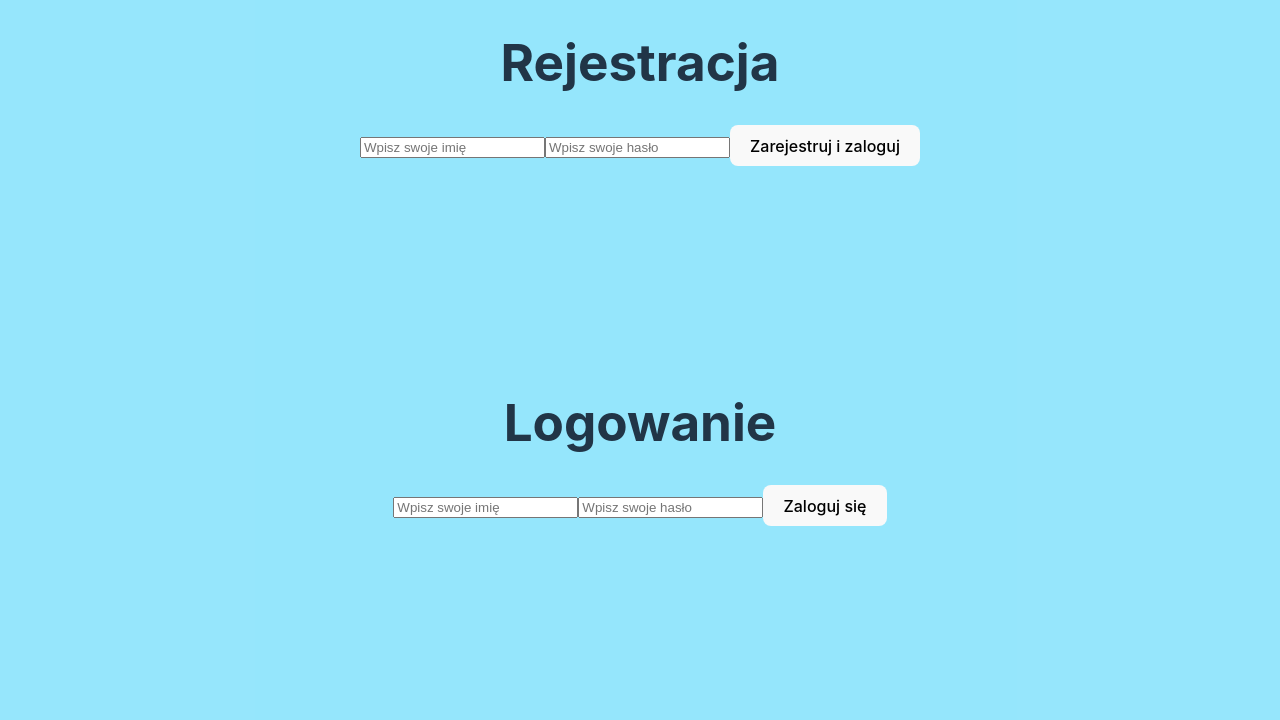
Scenario: example to-do app › shows error for existing user in registration
This screenshot has width=1280, height=720.
// Testuje formularz rejestracji
Type "Jacek" into the field with test id "register-username-input".
click(453, 148); type("Jacek")  # box [360,137,545,158]
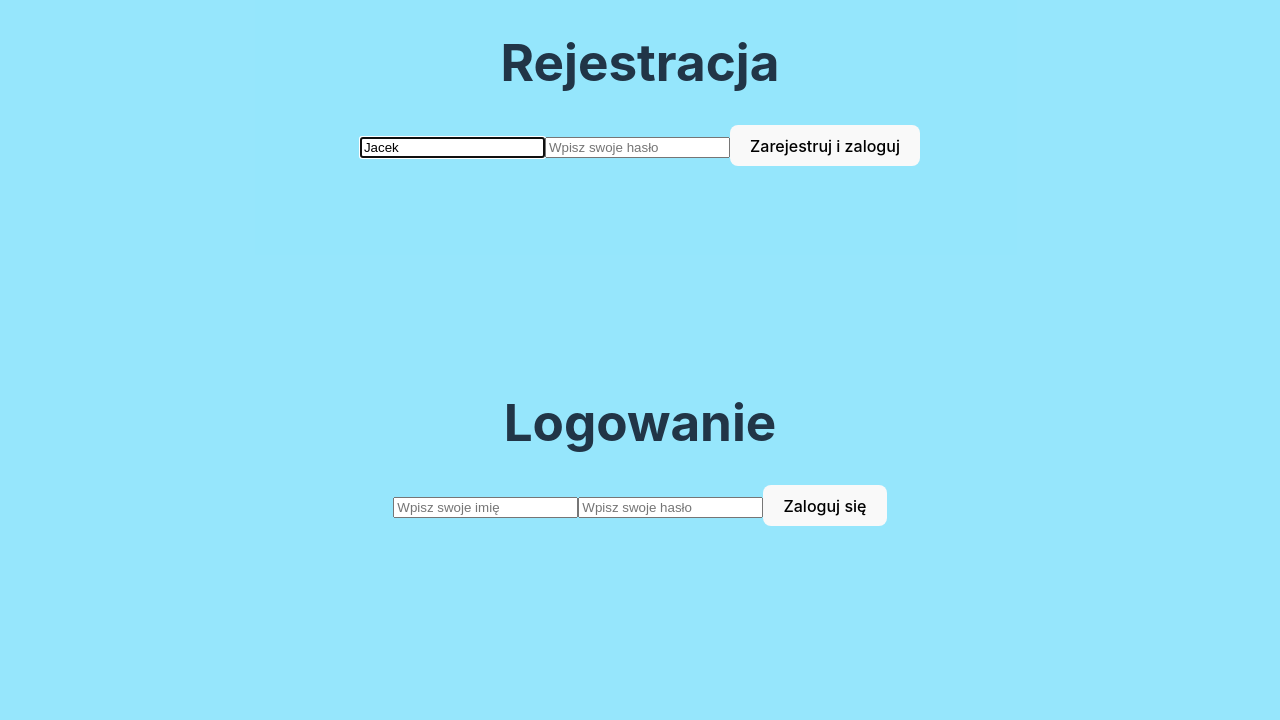
Type "123" into the password field with test id "register-password-input".
click(638, 148); type("123")  # box [545,137,730,158]
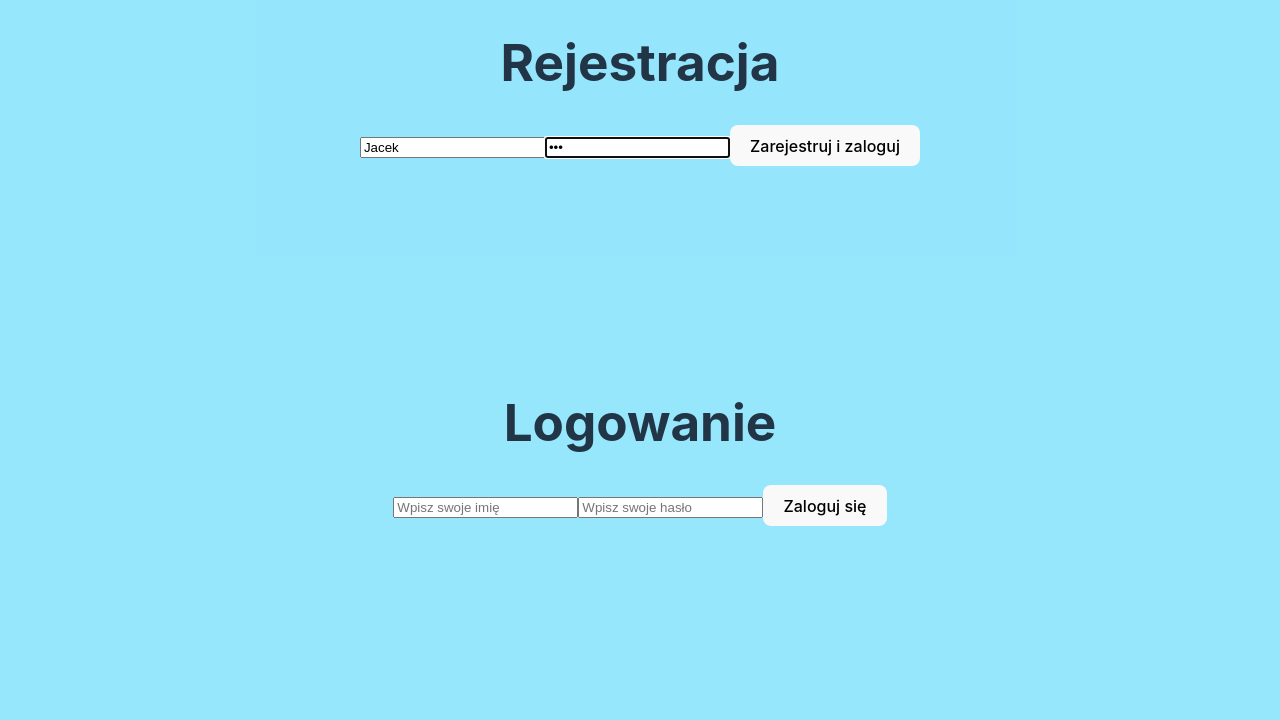
Click the button with test id "register-submit".
click(825, 146)  # box [730,125,920,166]
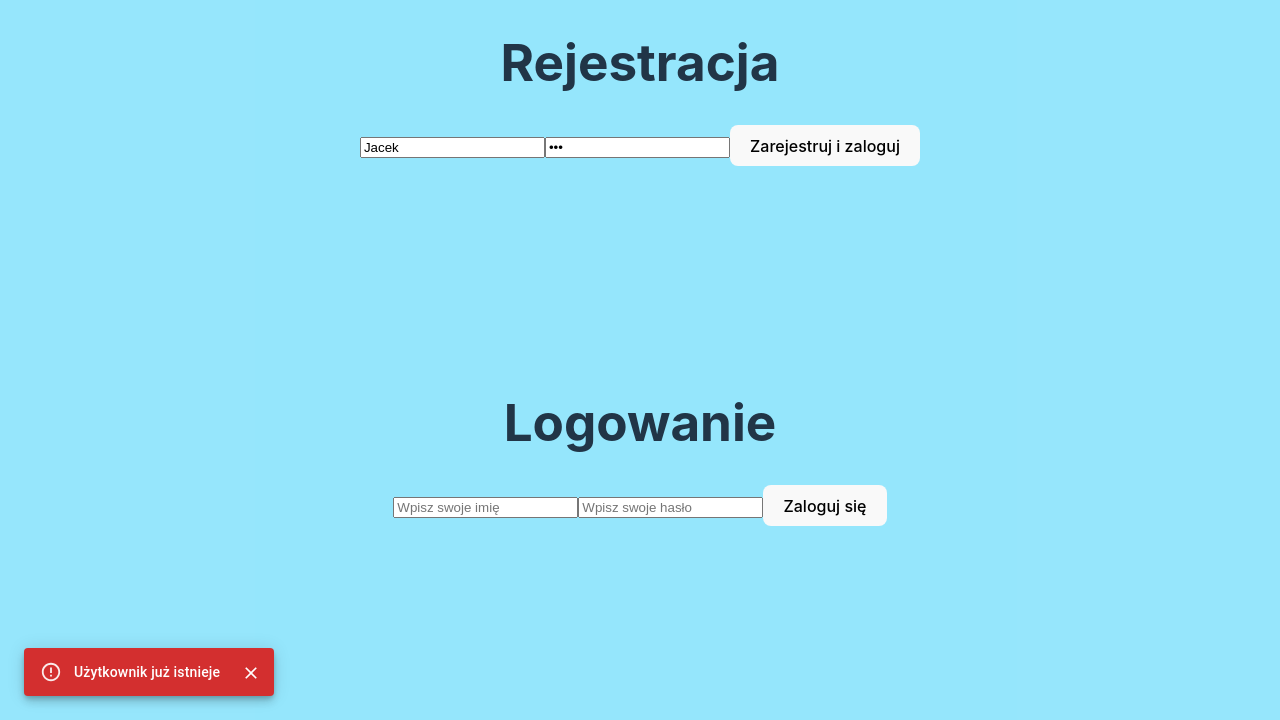
Check: the text "Użytkownik już istnieje" is shown, box [74,664,220,680]
